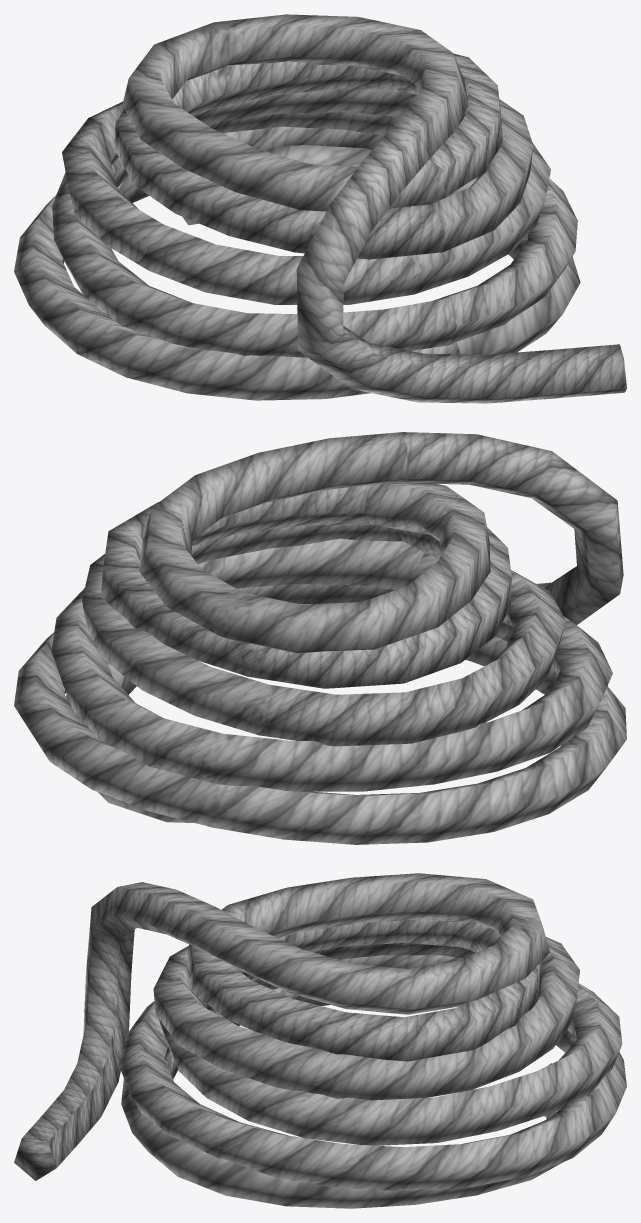
Rendered from Rope01.fbx.
The picture shows the model from 3 angles, top to bottom: view 1: azimuth 30°, elevation 25°; view 2: azimuth 150°, elevation 25°; view 3: azimuth 270°, elevation 25°; orthographic projection. The views are drawn at different scales.
Parts seen in each view (by area): view 1: Rope01_LOD0; view 2: Rope01_LOD0; view 3: Rope01_LOD0.
Part boxes in pixels (left/top/right/bottom): Rope01_LOD0: left=14, top=14, right=626, bottom=403; Rope01_LOD0: left=14, top=432, right=626, bottom=844; Rope01_LOD0: left=14, top=873, right=626, bottom=1208.
Size of what is drawn, in the model's own units: 0.3463 by 0.1515 by 0.3929.
